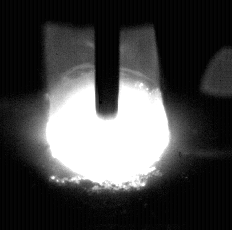arame: (96, 0, 120, 120)
poca: (44, 0, 172, 230)
